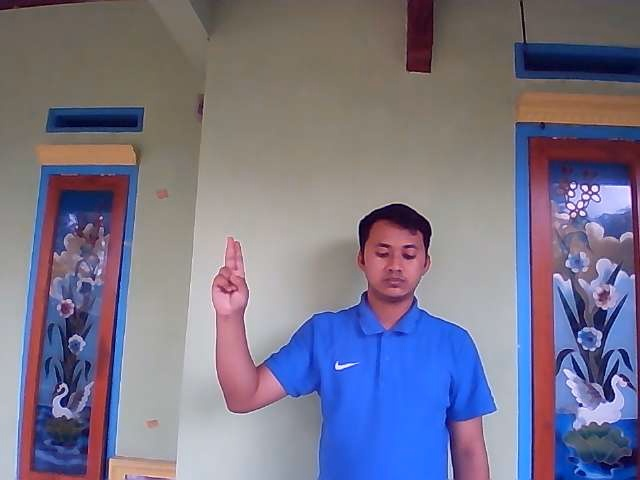U: (209, 236, 250, 315)
